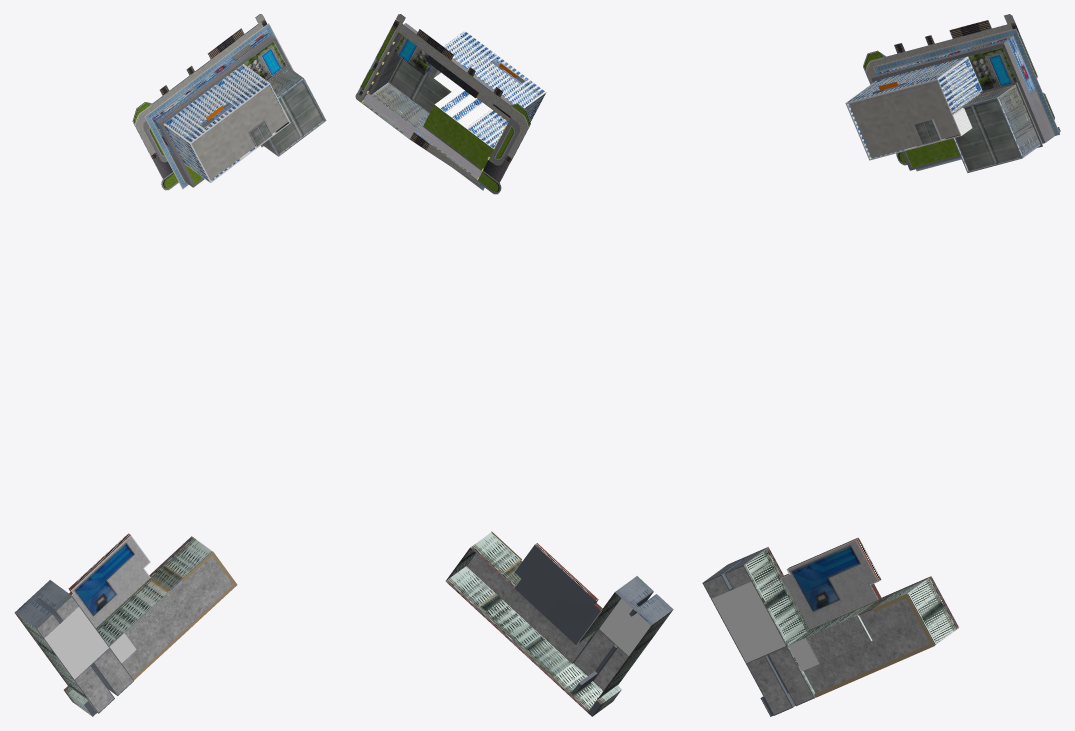
The picture shows the model from 3 angles, left to right: view 1: azimuth 30°, elevation 25°; view 2: azimuth 150°, elevation 25°; view 3: azimuth 330°, elevation 25°; orthographic projection. The views are drawn at different scales.
Parts seen in each view (by area): view 1: HCM0006_WiltonTower, 5be55b80cbdf9f10f4f8bb58; view 2: HCM0006_WiltonTower, 5be55b80cbdf9f10f4f8bb58; view 3: HCM0006_WiltonTower, 5be55b80cbdf9f10f4f8bb58.
Boxes of the visible parts, x1,y1,x2,y2 form: HCM0006_WiltonTower: (14,533,237,716); 5be55b80cbdf9f10f4f8bb58: (132,14,326,190); HCM0006_WiltonTower: (445,531,673,716); 5be55b80cbdf9f10f4f8bb58: (355,14,546,194); HCM0006_WiltonTower: (702,537,958,716); 5be55b80cbdf9f10f4f8bb58: (845,14,1060,172).
Bounding box in the file's own units: 462 × 973 × 100.
2 materials, 2 textured.
